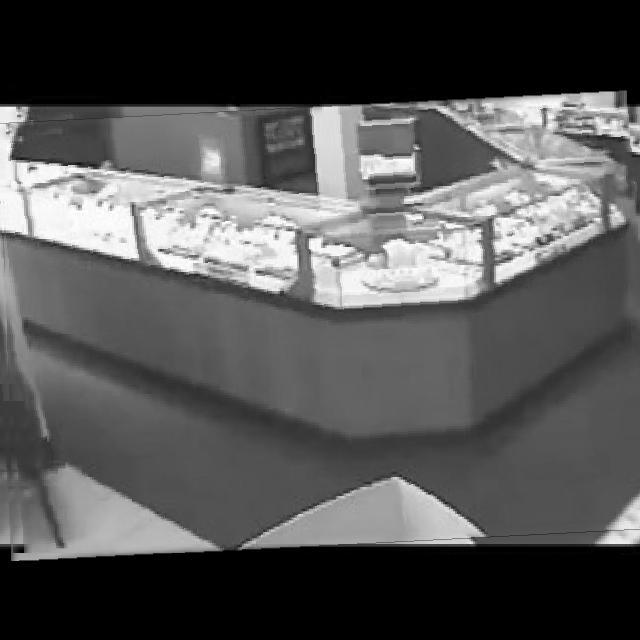Normal: (0, 97, 640, 553)
